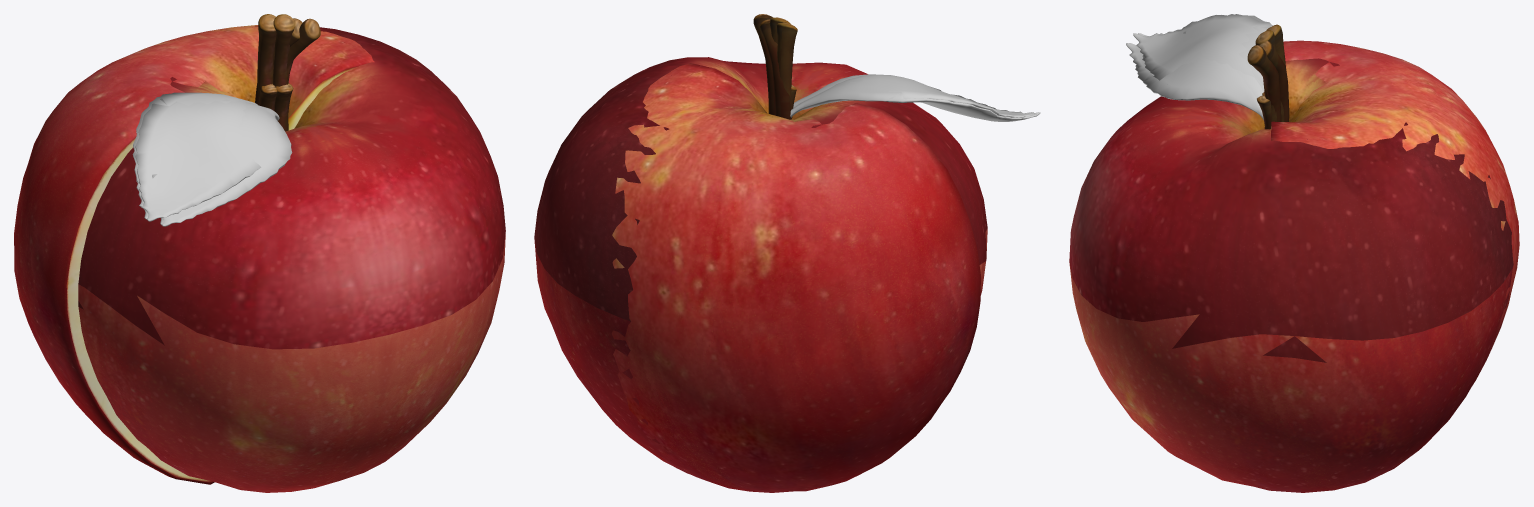
File: RealFruits_Apple.FBX
3 views of the same model, side by side, from view 1: azimuth 30°, elevation 25°; view 2: azimuth 150°, elevation 25°; view 3: azimuth 270°, elevation 25° (orthographic). The views are drawn at different scales.
Visible parts, largest first — view 1: Apple_low002, Apple_low001, Apple_half_low001, Apple_Leaf_Low001 (×2), Apple_Leaf_Low002 (×2), Apple_Leaf_Low003, Apple_low003; view 2: Apple_half_low001, Apple_low002, Apple_low001, Apple_Leaf_Low003, Apple_Leaf_Low002, Apple_half_low003, Apple_Leaf_Low001, Apple_low003; view 3: Apple_low002, Apple_low001, Apple_half_low001, Apple_Leaf_Low001 (×2), Apple_Leaf_Low002, Apple_low003, Apple_half_low003, Apple_Leaf_Low003.
Part boxes in pixels (x1,y1,x2,y2): Apple_low002: (78, 26, 505, 349); Apple_low001: (78, 14, 505, 492); Apple_half_low001: (14, 14, 374, 484); Apple_Leaf_Low001 (×2): (136, 98, 292, 226); Apple_Leaf_Low002 (×2): (135, 99, 279, 226); Apple_Leaf_Low003: (132, 92, 257, 219); Apple_low003: (274, 18, 320, 111); Apple_half_low001: (611, 22, 980, 492); Apple_low002: (534, 57, 987, 321); Apple_low001: (534, 17, 987, 473); Apple_Leaf_Low003: (790, 79, 1038, 121); Apple_Leaf_Low002: (791, 76, 1040, 117); Apple_half_low003: (760, 19, 790, 119); Apple_Leaf_Low001: (799, 74, 1038, 116); Apple_low003: (753, 14, 775, 115); Apple_low002: (1069, 58, 1513, 362); Apple_low001: (1069, 30, 1513, 492); Apple_half_low001: (1266, 24, 1519, 385); Apple_Leaf_Low001 (×2): (1126, 15, 1269, 120); Apple_Leaf_Low002: (1133, 14, 1264, 76); Apple_low003: (1247, 45, 1281, 121); Apple_half_low003: (1259, 41, 1289, 121); Apple_Leaf_Low003: (1138, 14, 1273, 86).
Bounding box in the file's own units: 45.08 × 45.8 × 43.31.
